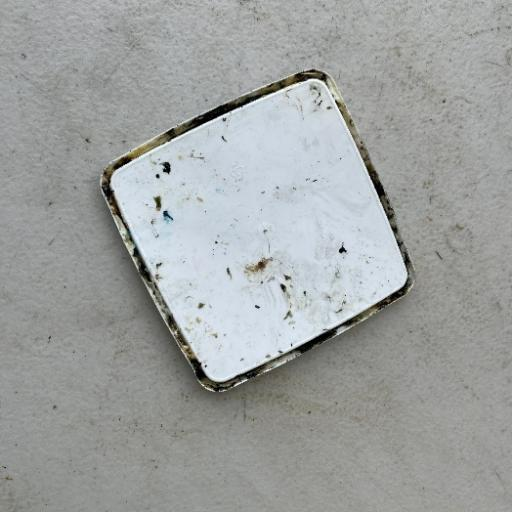Plastic: (98, 67, 414, 394)
